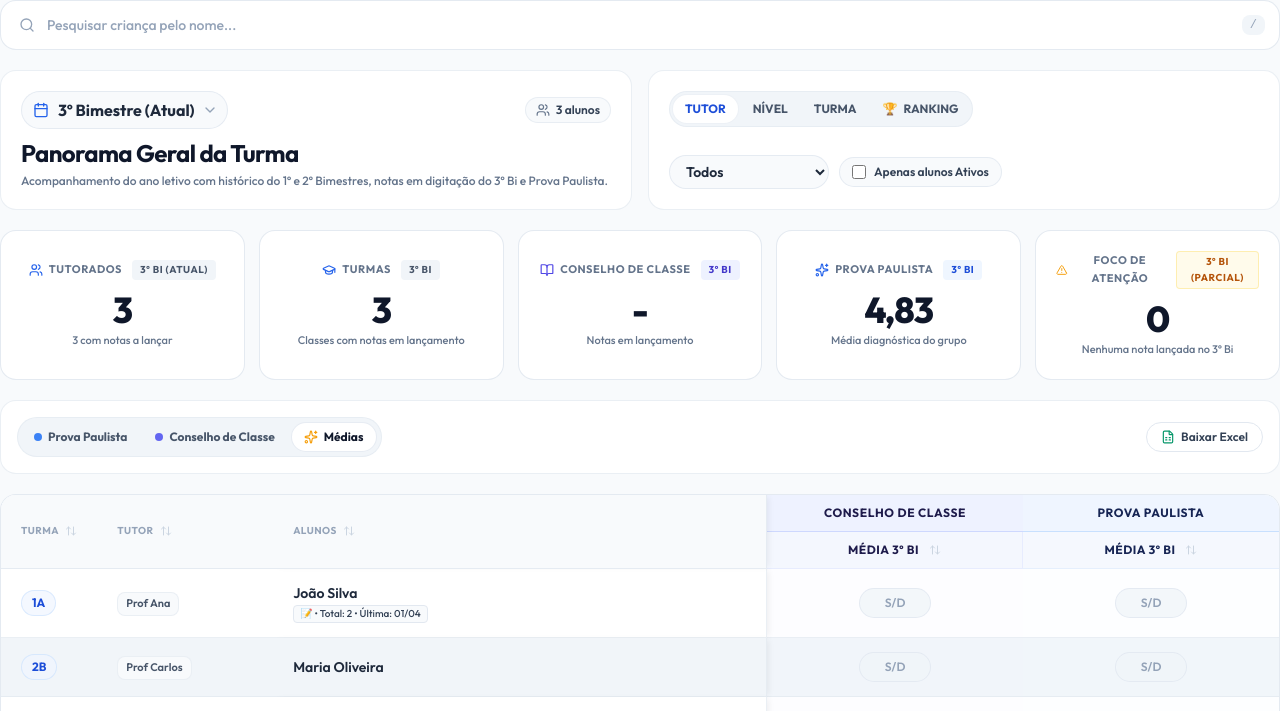
Scenario: Dashboard — filtros laterais › permite selecionar Média Geral no seletor de bimestre
Select "Média Geral" in the dropdown named "selecionar bimestre" at {"x": 124, "y": 110}, box [21,91,228,129]
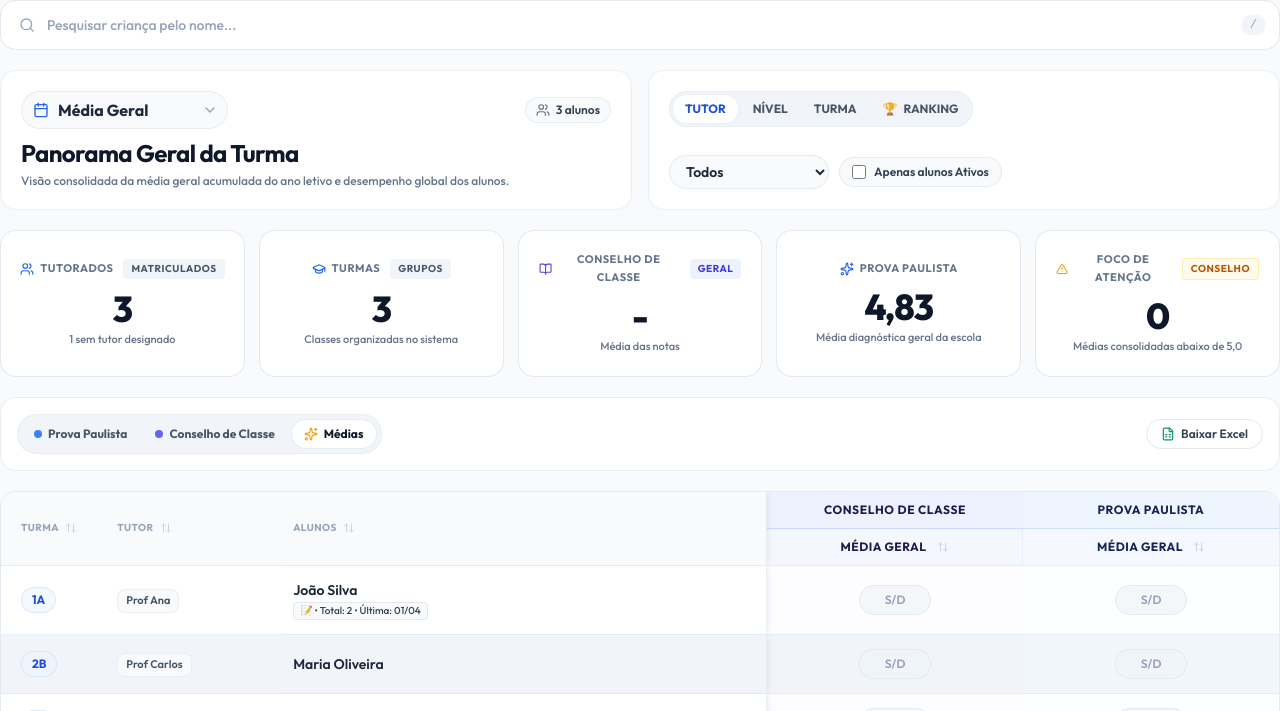
Expected: the text "Visão consolidada da média geral acumulada" is shown, [21,173,509,188]
